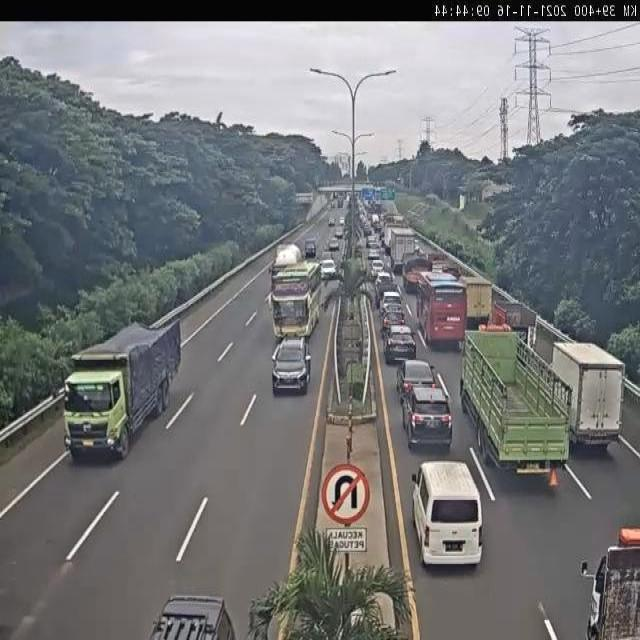Bus: (417, 269, 468, 347), (272, 264, 320, 338)
Car: (582, 531, 640, 637), (146, 595, 238, 640), (400, 381, 454, 451), (271, 339, 311, 395), (395, 359, 436, 405), (586, 554, 606, 637), (382, 324, 417, 364), (319, 258, 337, 280), (370, 260, 384, 277), (304, 239, 316, 258), (367, 248, 380, 261), (366, 234, 378, 248), (328, 238, 339, 250), (335, 227, 344, 238)
Truck: (64, 320, 180, 460), (459, 328, 568, 474), (552, 340, 624, 451), (462, 274, 492, 324), (390, 228, 417, 270)
Van: (410, 462, 482, 568)
